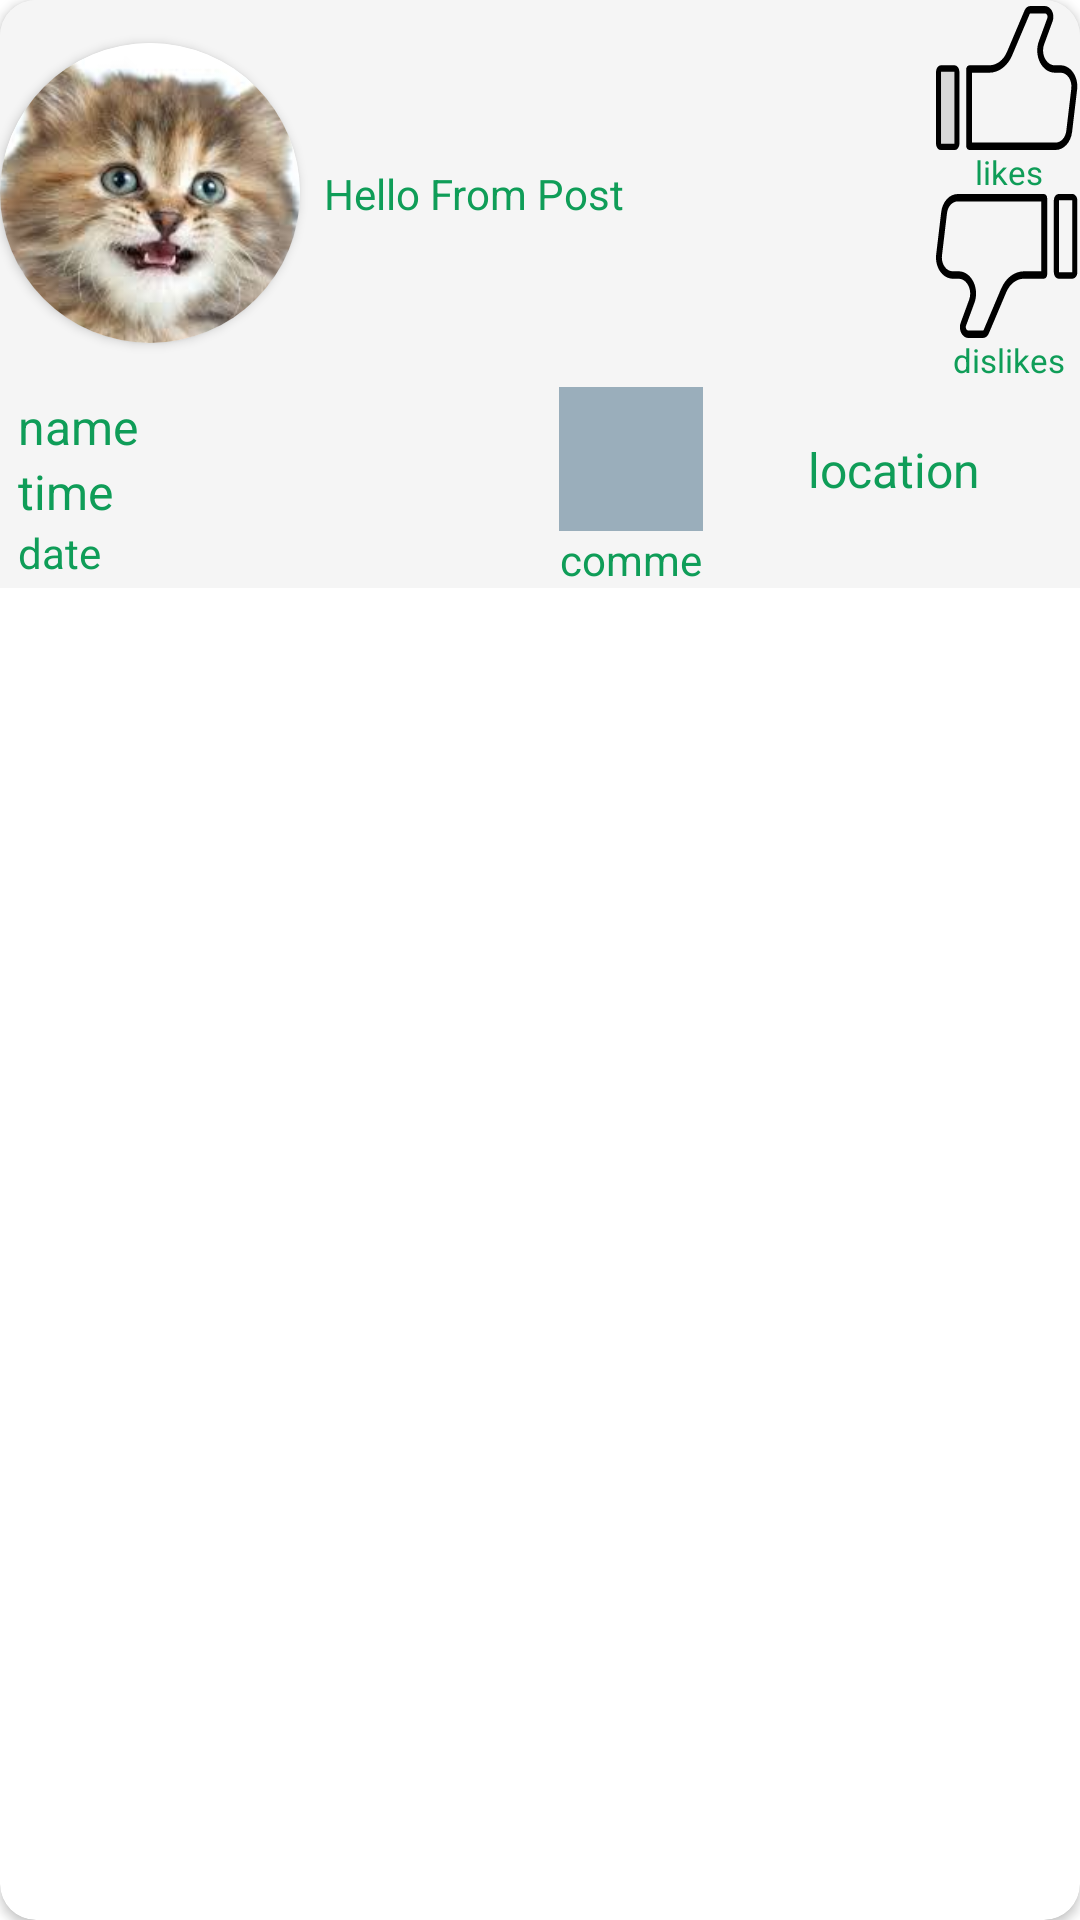

Named icons in this screenshot (1080 × 1920) and their centers, (x=x, y=y):
cat: (x=149, y=204)
